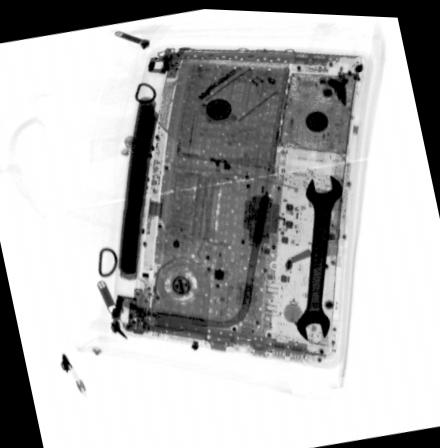Wrench: (293, 167, 342, 340)
